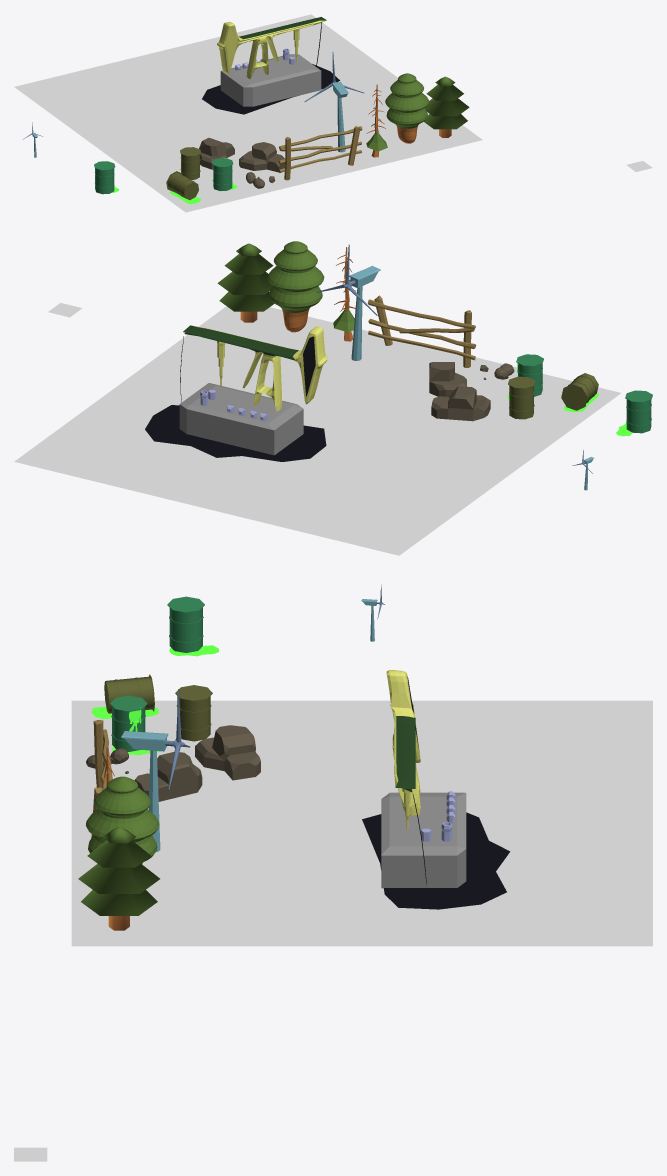
The model's file is tre213123.fbx.
3 views of the same model, one above another, from view 1: azimuth 30°, elevation 25°; view 2: azimuth 150°, elevation 25°; view 3: azimuth 270°, elevation 25° (orthographic). The views are drawn at different scales.
Parts seen in each view (by area): view 1: Zemin, Plane.001, Tree2, Tree1, fence, Rock.001, Rock, Blades, barrell, Barrel, Barrel2, Barrel3 (+1 smaller); view 2: Zemin, Plane.001, Tree2, Tree1, fence, Rock, Blades, barrell, Barrel3, Rock.001, Barrel2, tree3 (+1 smaller); view 3: Zemin, Plane.001, Tree1, Tree2, Rock, Blades, Rock.001, barrell, Barrel3, Barrel, Barrel2, fence.
Part boxes in pixels (x1,y1,x2,y2): Zemin: (14, 14, 482, 212); Plane.001: (202, 17, 339, 114); Tree2: (385, 73, 428, 143); Tree1: (423, 76, 469, 137); fence: (279, 126, 362, 180); Rock.001: (239, 142, 285, 172); Rock: (199, 137, 234, 169); Blades: (304, 52, 363, 152); barrell: (94, 161, 115, 194); Barrel: (212, 158, 233, 191); Barrel2: (166, 171, 198, 199); Barrel3: (180, 147, 201, 179); Zemin: (14, 306, 620, 555); Plane.001: (145, 325, 327, 461); Tree2: (267, 241, 324, 332); Tree1: (217, 243, 274, 322); fence: (368, 295, 476, 367); Rock: (431, 386, 490, 421); Blades: (316, 244, 380, 360); barrell: (625, 390, 652, 433); Barrel3: (508, 376, 535, 419); Rock.001: (429, 362, 466, 396); Barrel2: (561, 373, 598, 410); tree3: (333, 247, 355, 341); Zemin: (71, 700, 652, 946); Plane.001: (362, 670, 510, 909); Tree1: (78, 827, 159, 930); Tree2: (86, 776, 159, 864); Rock: (195, 725, 260, 780); Blades: (121, 689, 189, 851); Rock.001: (134, 751, 202, 801); barrell: (167, 596, 204, 652); Barrel3: (175, 685, 212, 741); Barrel: (110, 695, 147, 751); Barrel2: (104, 674, 154, 713); fence: (91, 720, 112, 837).
Size of the model in its own units: 6106 by 1643 by 3833.
